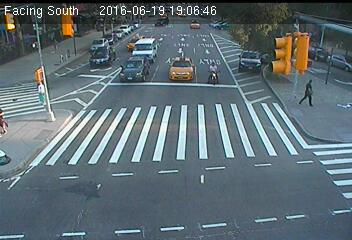neg: (203, 58, 223, 85)
pos: (299, 74, 324, 107)
